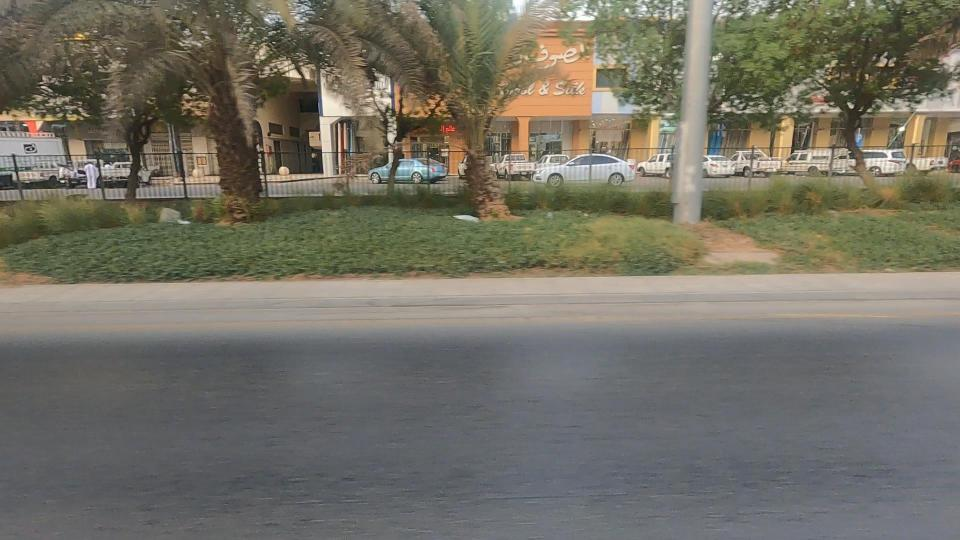GARBAGE: (134, 183, 216, 254), (418, 192, 510, 245)
